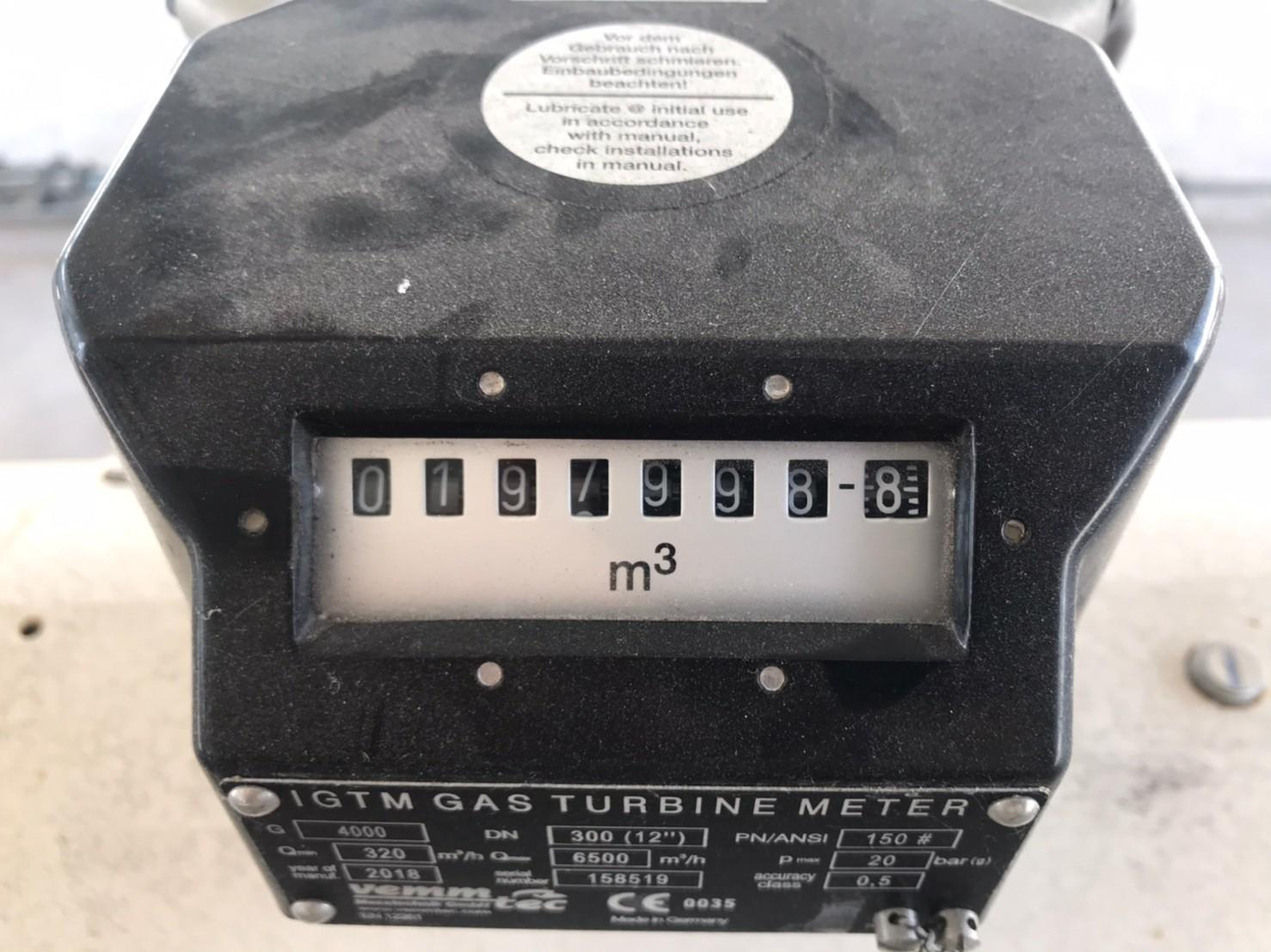analog_dial: (312, 437, 956, 622)
